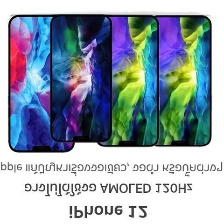phone: (4, 12, 76, 155), (92, 11, 164, 147), (149, 13, 214, 149), (47, 12, 112, 144)
